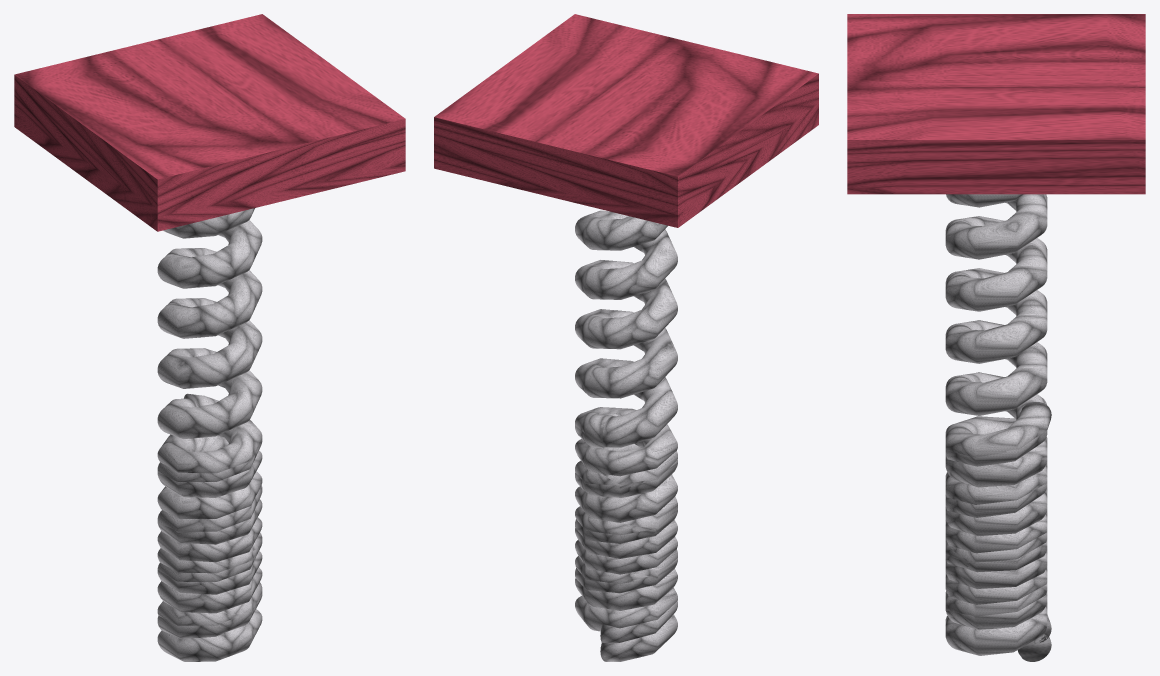
File: Springs.fbx
The picture shows the model from 3 angles, left to right: view 1: azimuth 30°, elevation 25°; view 2: azimuth 150°, elevation 25°; view 3: azimuth 270°, elevation 25°; orthographic projection. The views are drawn at different scales.
Parts seen in each view (by area): view 1: Spring_2, Spring_1; view 2: Spring_2, Spring_1; view 3: Spring_2, Spring_1.
Part boxes in pixels (x1,y1,x2,y2): Spring_2: (14, 14, 405, 638); Spring_1: (157, 393, 262, 661); Spring_2: (434, 14, 818, 642); Spring_1: (575, 407, 677, 661); Spring_2: (847, 14, 1145, 643); Spring_1: (945, 402, 1051, 661).
Size of the model in its own units: 173 by 374 by 173.
Materials: 2 (2 with a texture image).
